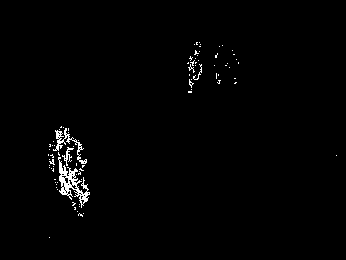person: (48, 125, 89, 216), (188, 39, 203, 93)
